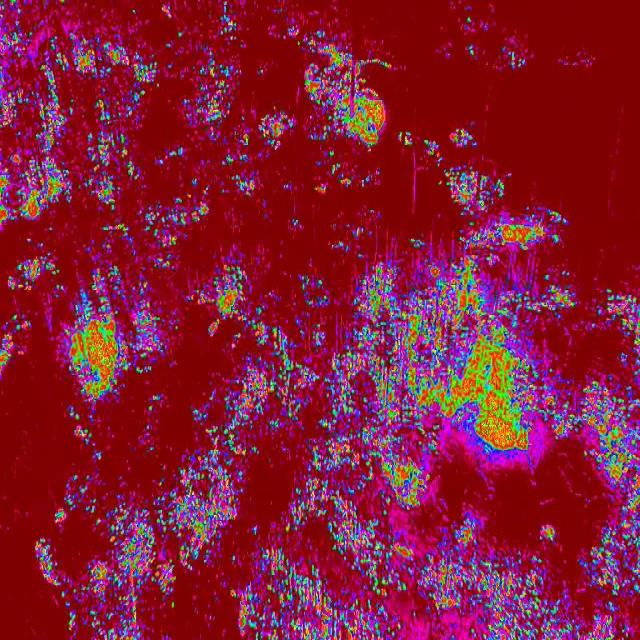fire: (0, 0, 389, 402), (68, 406, 640, 640), (388, 216, 572, 406), (438, 167, 514, 216), (33, 508, 68, 600), (590, 282, 640, 332), (581, 370, 640, 406), (450, 125, 480, 151), (618, 333, 640, 368), (424, 134, 444, 165), (397, 129, 413, 151)
